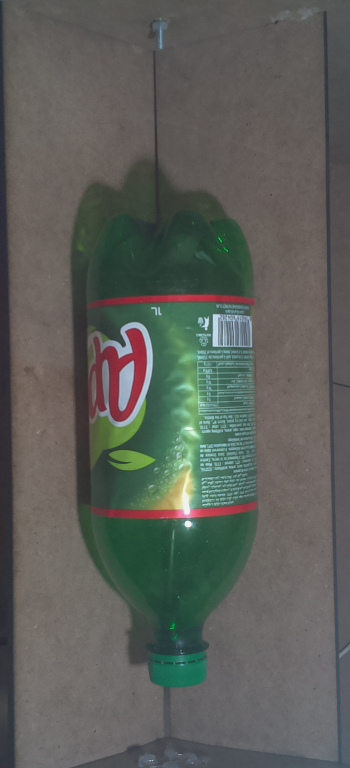Bouteille_1L: (74, 207, 267, 696)
